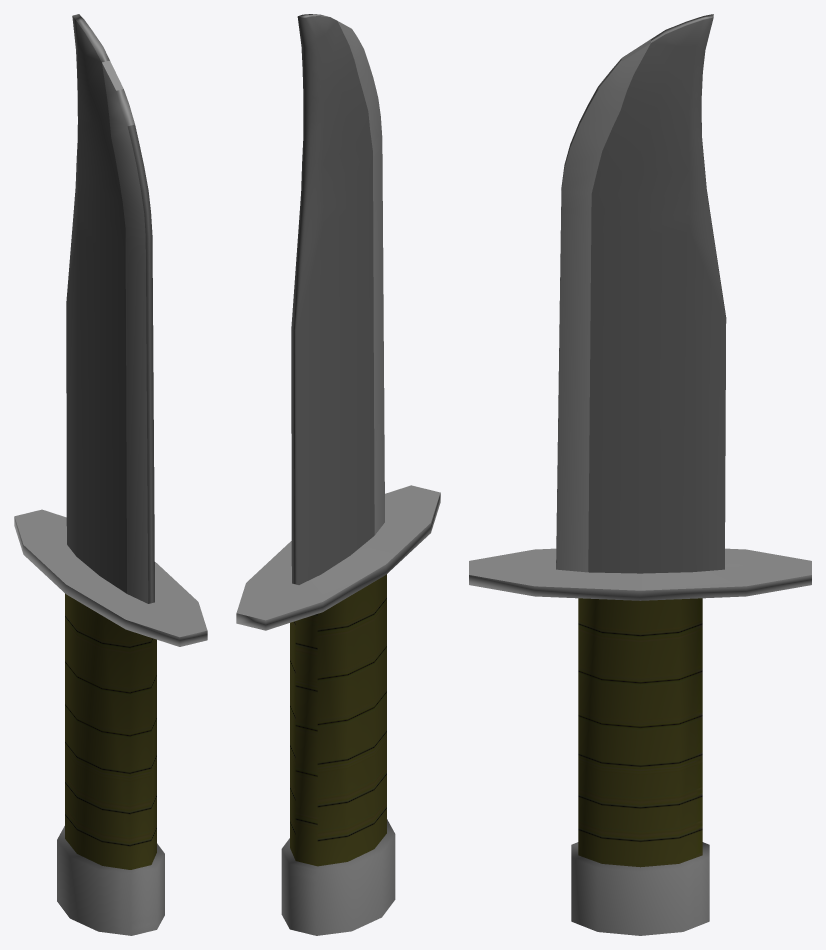
Rendered from Finished knife.fbx.
3 views of the same model, side by side, from view 1: azimuth 30°, elevation 25°; view 2: azimuth 150°, elevation 25°; view 3: azimuth 270°, elevation 25° (orthographic). The views are drawn at different scales.
Visible parts, largest first — view 1: pCylinder5; view 2: pCylinder5; view 3: pCylinder5.
Part boxes in pixels (x1,y1,x2,y2): pCylinder5: (14, 14, 207, 935); pCylinder5: (236, 14, 440, 935); pCylinder5: (469, 14, 811, 935).
Bounding box in the file's own units: 1.65 × 15.15 × 5.23.
Materials: 1 (1 with a texture image).
